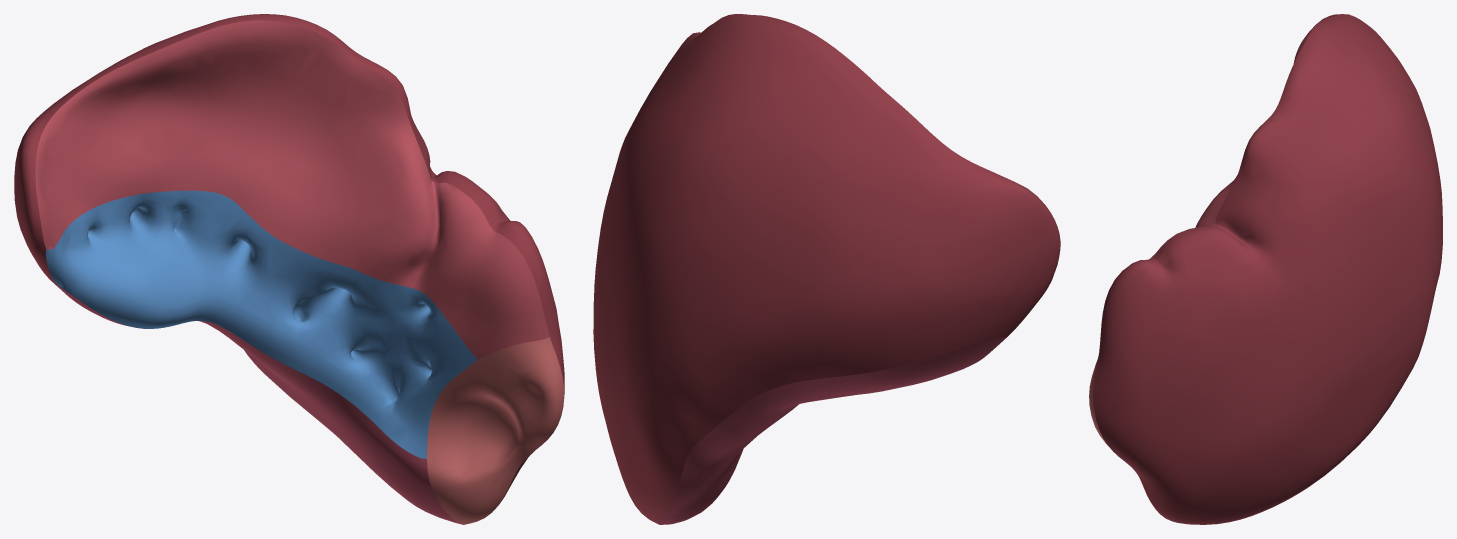
The model's file is baco.glb.
The picture shows the model from 3 angles, left to right: view 1: azimuth 30°, elevation 25°; view 2: azimuth 150°, elevation 25°; view 3: azimuth 270°, elevation 25°; orthographic projection. The views are drawn at different scales.
Parts seen in each view (by area): view 1: VH_M_gastric_surface_of_spleen, VH_M_hilum_of_spleen, VH_M_colic_surface_of_spleen, VH_M_diaphragmatic_surface_of_spleen, VH_M_renal_surface_of_spleen; view 2: VH_M_diaphragmatic_surface_of_spleen, VH_M_renal_surface_of_spleen; view 3: VH_M_diaphragmatic_surface_of_spleen, VH_M_gastric_surface_of_spleen.
Boxes of the visible parts, box(x1,y1,x2,y2) form: VH_M_gastric_surface_of_spleen: box(35, 20, 549, 359); VH_M_hilum_of_spleen: box(45, 190, 477, 458); VH_M_colic_surface_of_spleen: box(427, 337, 564, 524); VH_M_diaphragmatic_surface_of_spleen: box(14, 14, 564, 505); VH_M_renal_surface_of_spleen: box(51, 281, 459, 523); VH_M_diaphragmatic_surface_of_spleen: box(593, 14, 1060, 523); VH_M_renal_surface_of_spleen: box(657, 337, 1006, 524); VH_M_diaphragmatic_surface_of_spleen: box(1093, 14, 1442, 524); VH_M_gastric_surface_of_spleen: box(1149, 27, 1313, 259).
Size of the model in its own units: 0.1104 by 0.1186 by 0.0886.
